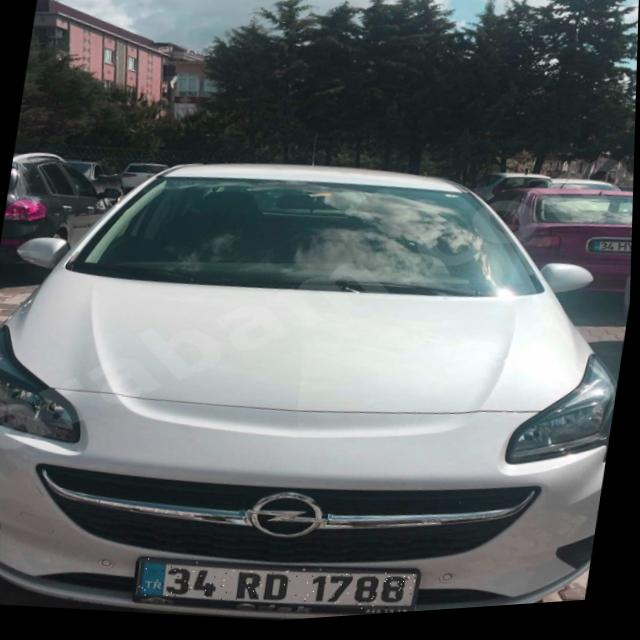license_plate: (137, 545, 425, 632)
